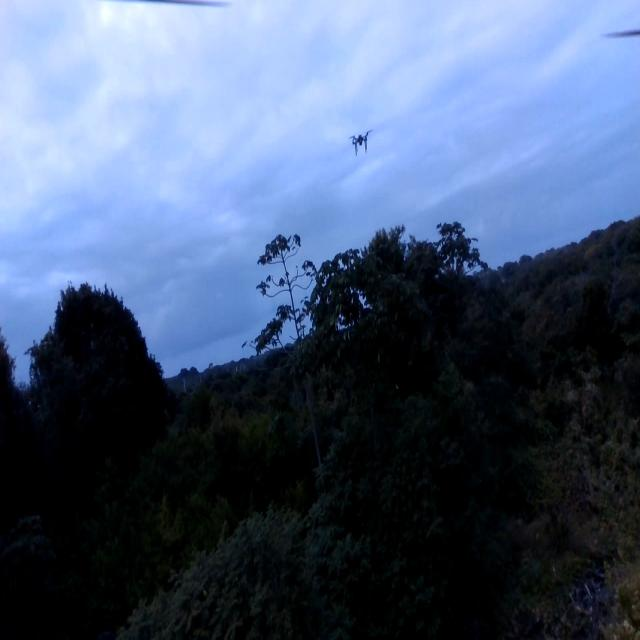-uav-: (344, 122, 378, 162)
